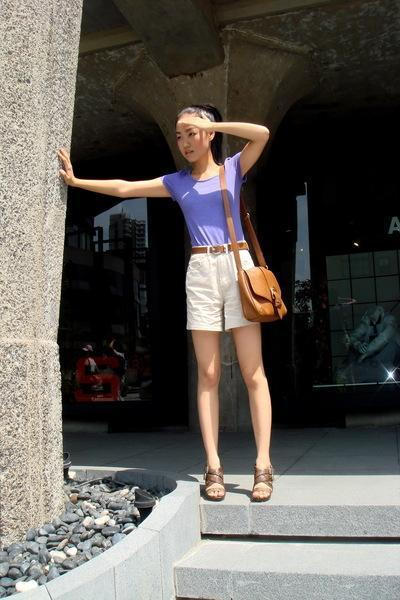bag: (234, 231, 286, 335)
shirt: (163, 156, 240, 254)
shoe: (200, 459, 275, 502)
shorts: (186, 244, 251, 330)
